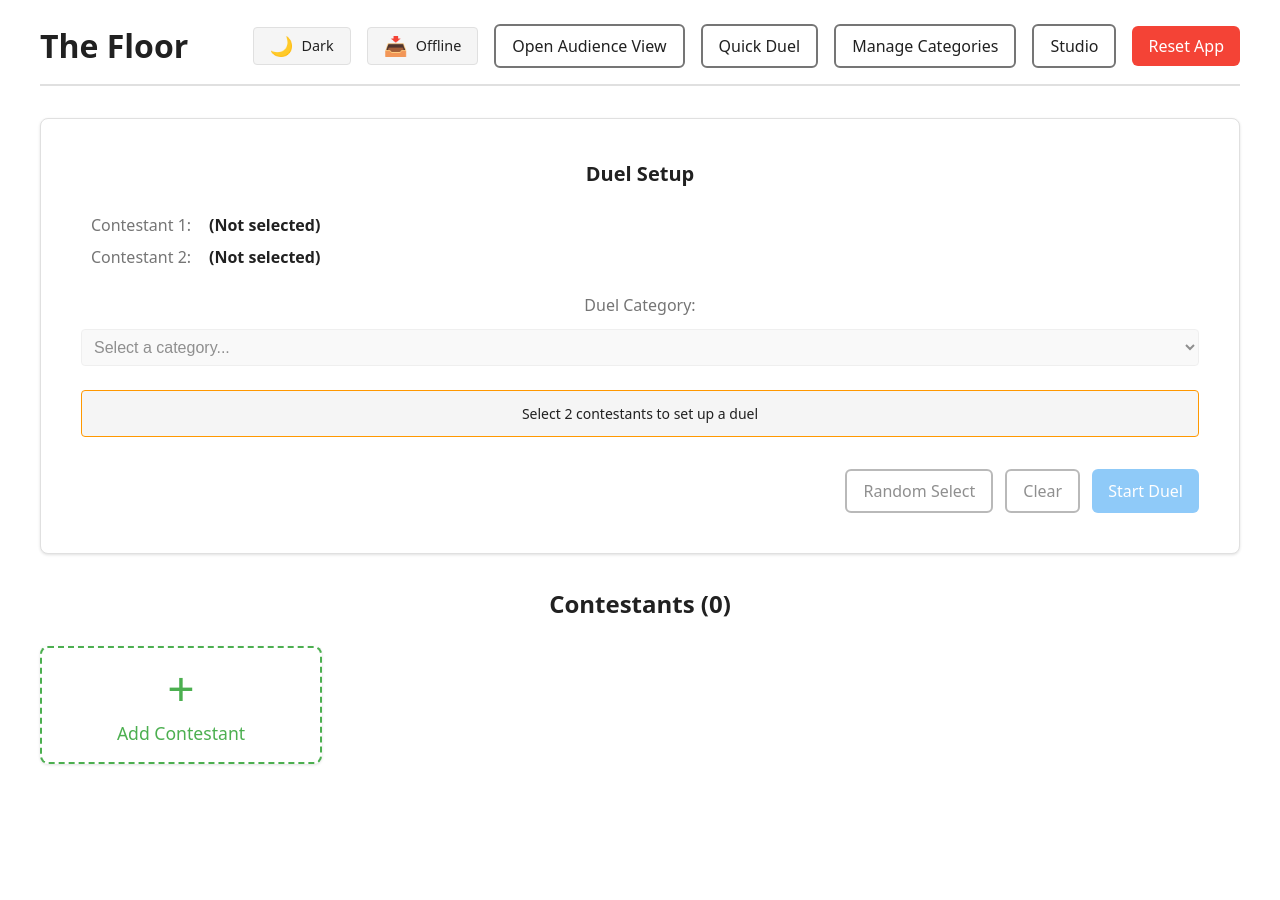
Test: Dashboard › Reset Application › shows confirmation modal when Reset App button clicked
Step 1. Click the button "Reset App" → (1186, 46), box [1132, 26, 1240, 66]
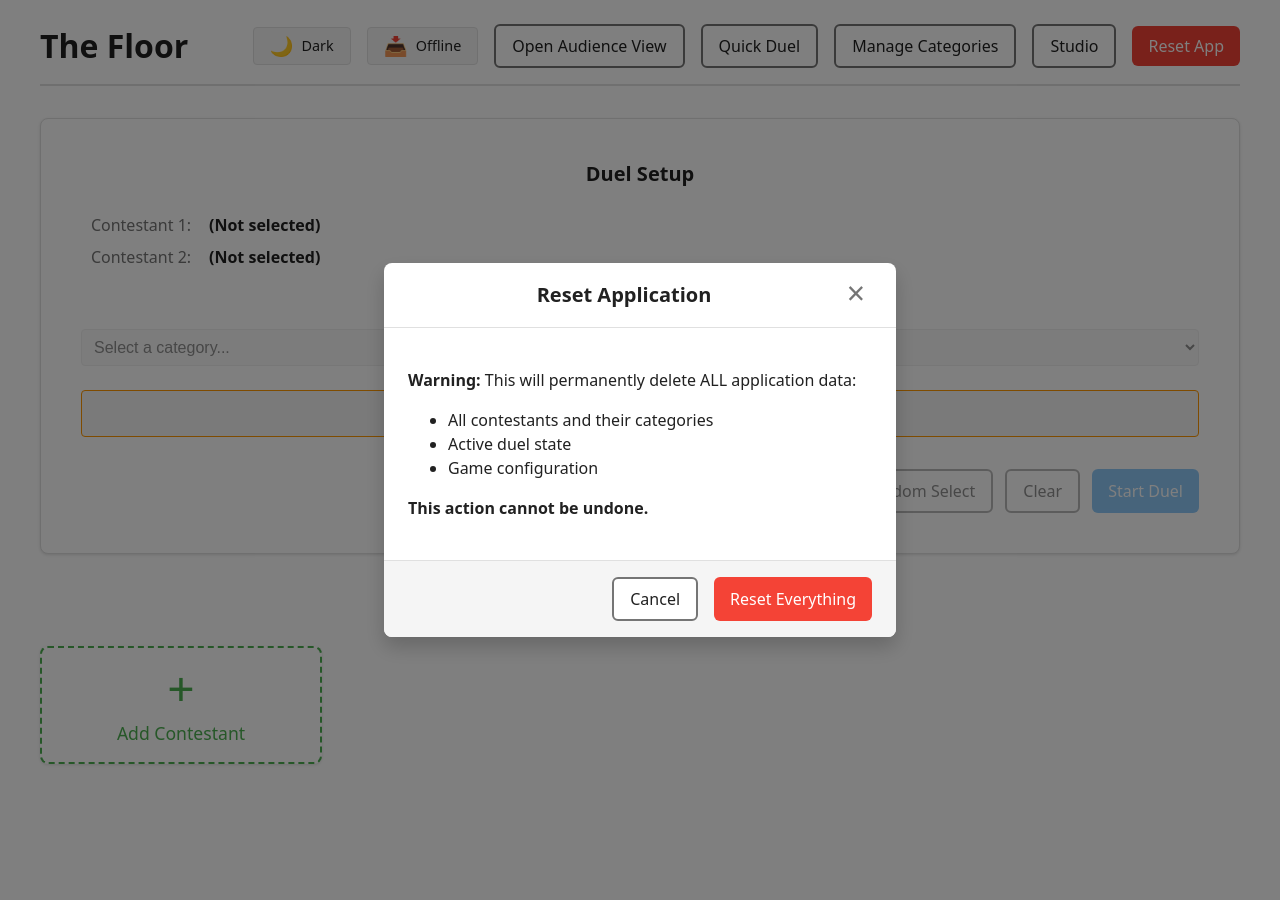
Now the dialog "Reset Application" is shown, box [384, 263, 896, 637]
Now the text "Warning: This will permanently delete ALL application data:" is shown, box [408, 368, 872, 392]
